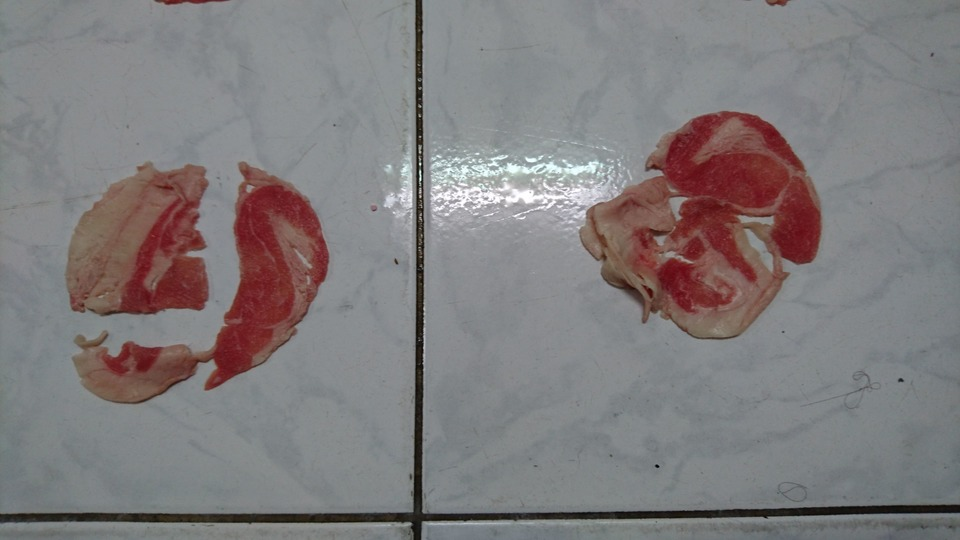restructured meat: (69, 160, 336, 405), (577, 104, 822, 342)
